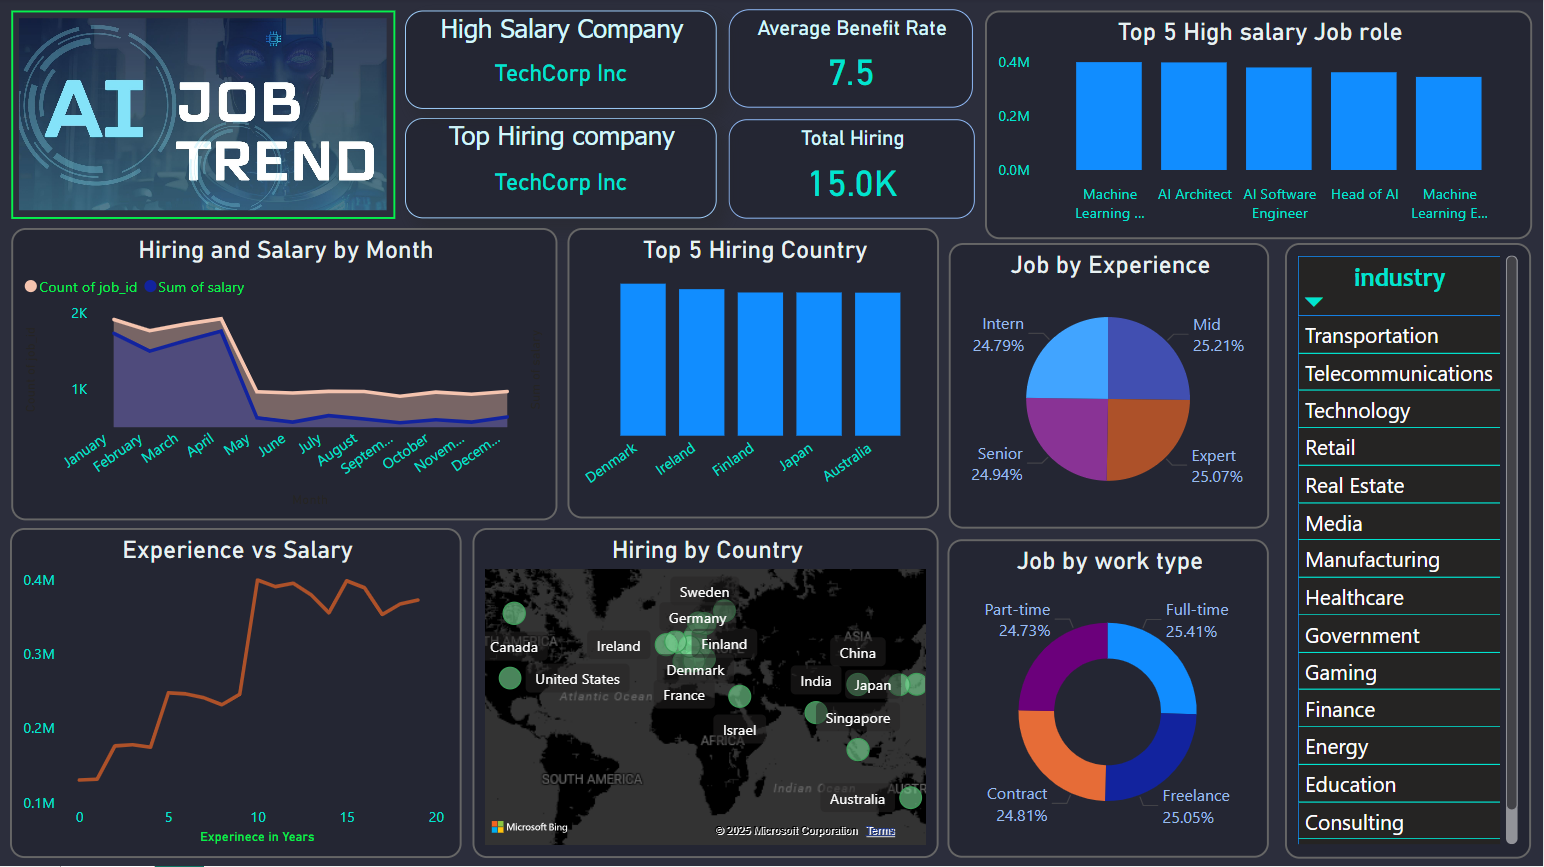

The page's visual inventory and layout, read from the dashboard file:
{"tool":"powerbi","page":{"name":"Page 1","canvas":[1280,720],"ordinal":0},"visuals":[{"type":"card","title":"Average Benefit Rate","fields":{"Values":["Avg(ai_job_dataset.benefits_score)"]},"box":[604.1,9.5,202.8,81.3],"z":0},{"type":"card","title":"Total Hiring","fields":{"Values":["CountNonNull(ai_job_dataset.job_id)"]},"box":[604.1,100.3,203.8,82.4],"z":1000},{"type":"areaChart","title":"Experience vs Salary","fields":{"Category":["ai_job_dataset.years_experience"],"Y":["Max(ai_job_dataset.salary)"]},"box":[8.4,439.5,374.6,273.8],"z":2000},{"type":"pieChart","title":"Job by Experience","fields":{"Y":["CountNonNull(ai_job_dataset.job_id)"],"Category":["ai_job_dataset.experience_level"]},"box":[786.5,202.9,265.4,236.5],"z":3000},{"type":"donutChart","title":"Job by work type","fields":{"Category":["ai_job_dataset.employment_type"],"Y":["CountNonNull(ai_job_dataset.job_id)"]},"box":[785.3,449.1,266.6,264.2],"z":4000},{"type":"card","title":"Top Hiring company","fields":{"Values":["Max(ai_job_dataset.company_name)"]},"box":[335.4,100,258.5,83.1],"z":5000},{"type":"pivotTable","title":"Country","fields":{"Rows":["ai_job_dataset.industry"]},"box":[1065.6,202.8,203.8,510.1],"z":6000},{"type":"lineChart","title":"Hiring and Salary by Month","fields":{"Category":["ai_job_dataset.posting_date.Variation.Date Hierarchy.Month"],"Y":["CountNonNull(ai_job_dataset.job_id)"],"Y2":["Sum(ai_job_dataset.salary)"]},"box":[9.2,190.8,452.5,242.5],"z":7000},{"type":"card","title":"High Salary Company","fields":{"Values":["Max(ai_job_dataset.company_name)"]},"box":[335.4,10,258.5,81.5],"z":8000},{"type":"map","title":"Hiring by Country","fields":{"Category":["ai_job_dataset.company_location"],"Size":["CountNonNull(ai_job_dataset.job_id)"]},"box":[391.4,439.5,386.6,273.8],"z":9000},{"type":"clusteredColumnChart","title":"Top 5 High salary Job role","fields":{"Y":["Max(ai_job_dataset.salary)"],"Category":["ai_job_dataset.job_title"]},"box":[816.3,10,453.4,189.8],"z":10000},{"type":"clusteredColumnChart","title":"Top 5 Hiring Country","fields":{"Y":["CountNonNull(ai_job_dataset.job_id)"],"Category":["ai_job_dataset.company_location"]},"box":[470,191.2,308.4,240.8],"z":11000},{"type":"image","box":[8.9,10,318.2,173.1],"z":12001}]}

Visuals, with their boxes in screenshot pixels (x1, y1, x2, y2), scaled from the page's 1280x720 canvas onto the 1544x867 screenshot:
"Average Benefit Rate" card: box(729, 11, 973, 109)
"Total Hiring" card: box(729, 121, 975, 220)
"Experience vs Salary" areaChart: box(10, 529, 462, 859)
"Job by Experience" pieChart: box(949, 244, 1269, 529)
"Job by work type" donutChart: box(947, 541, 1269, 859)
"Top Hiring company" card: box(405, 120, 716, 220)
"Country" pivotTable: box(1285, 244, 1531, 858)
"Hiring and Salary by Month" lineChart: box(11, 230, 557, 522)
"High Salary Company" card: box(405, 12, 716, 110)
"Hiring by Country" map: box(472, 529, 938, 859)
"Top 5 High salary Job role" clusteredColumnChart: box(985, 12, 1532, 241)
"Top 5 Hiring Country" clusteredColumnChart: box(567, 230, 939, 520)
image: box(11, 12, 395, 220)
